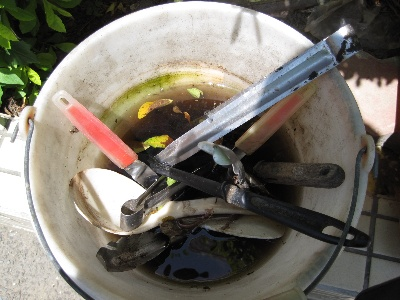bucket: (24, 1, 374, 300)
